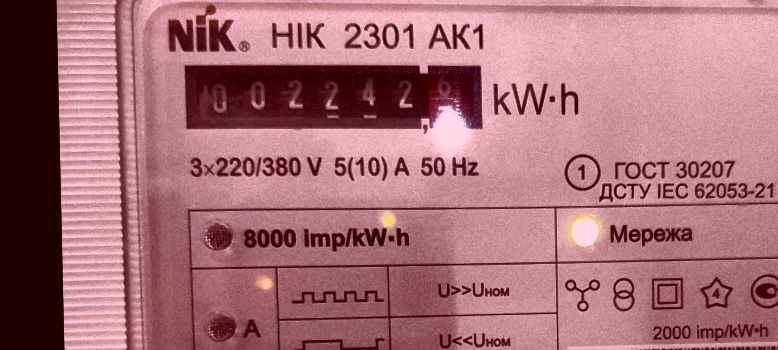0: (209, 81, 230, 115), (247, 78, 267, 111)
2: (285, 77, 305, 110), (322, 78, 340, 112), (396, 78, 414, 110)
4: (361, 75, 377, 108)
6: (436, 71, 452, 99)
screen: (173, 48, 493, 145)
